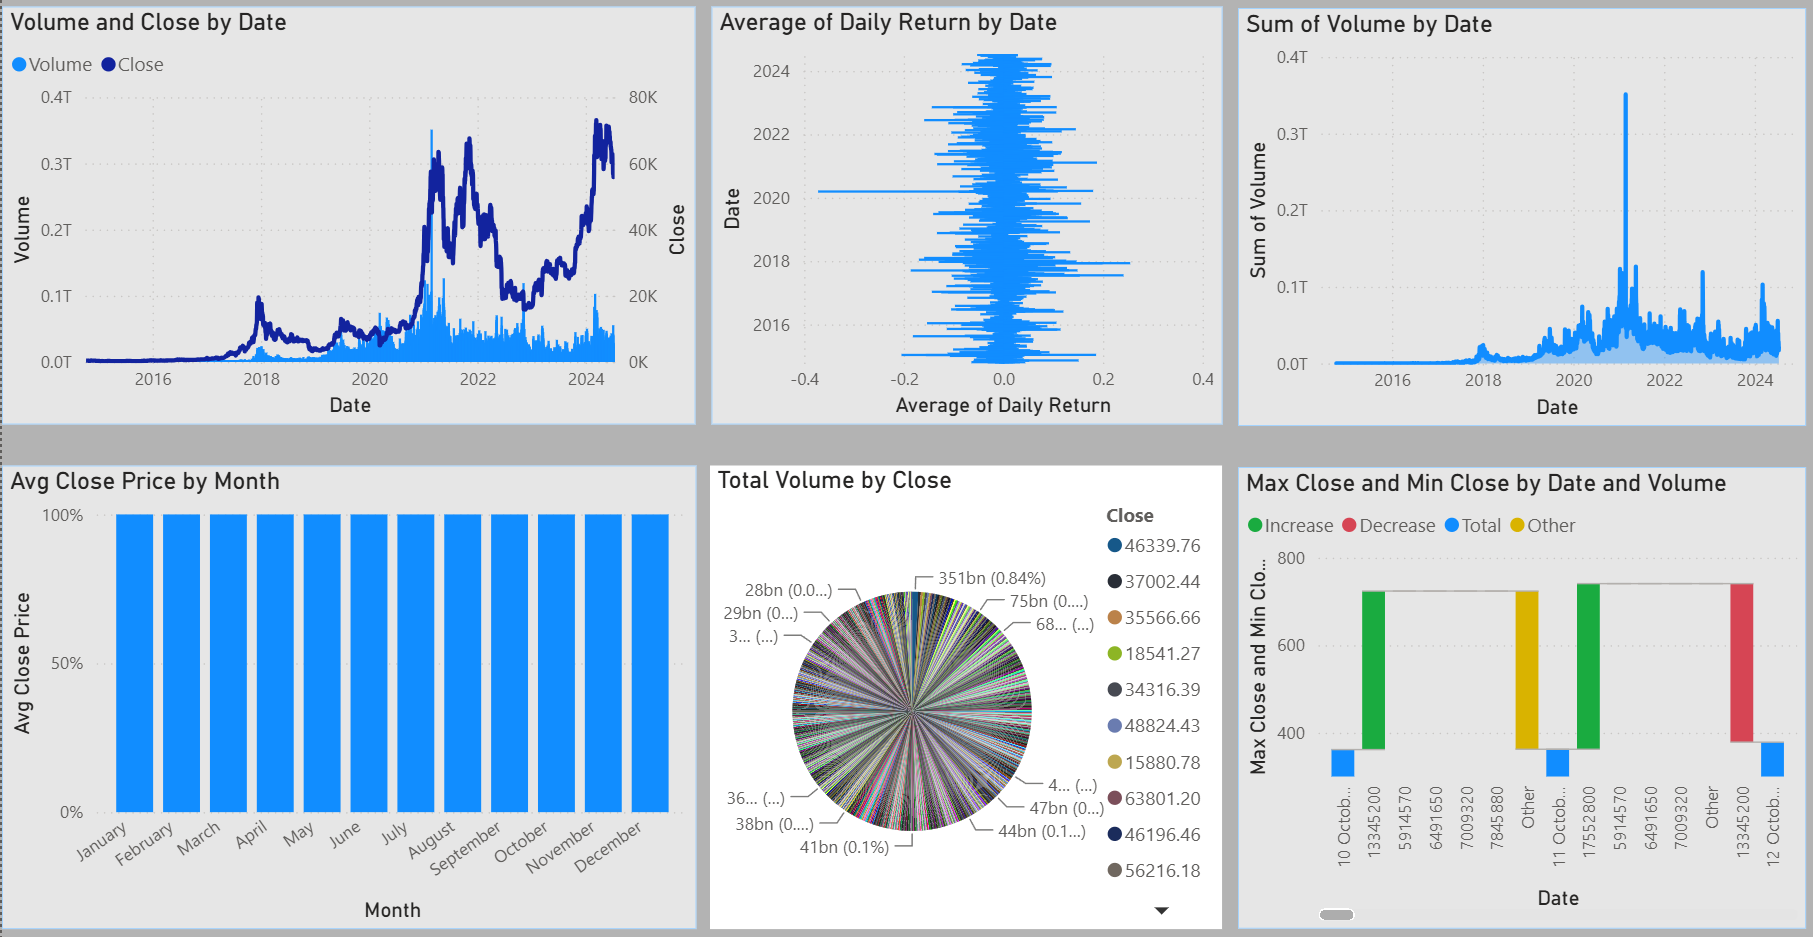

Layout of this report page (visuals, bound fields, positions):
{"tool":"powerbi","page":{"name":"Page 2","canvas":[1280,720],"ordinal":1},"visuals":[{"type":"lineClusteredColumnComboChart","fields":{"Category":["BTC-USD.Date"],"Y2":["Avg(BTC-USD.Close)"],"Y":["Avg(BTC-USD.Volume)"]},"box":[0,0,486.7,293.2],"z":0},{"type":"hundredPercentStackedColumnChart","fields":{"Category":["BTC-USD.Date.Variation.Date Hierarchy.Month"],"Y":["BTC-USD.Avg Close Price"]},"box":[0,303,487,293],"z":1},{"type":"barChart","fields":{"Category":["BTC-USD.Date"],"Y":["Avg(BTC-USD.Daily Return)"]},"box":[497.1,0,359.2,293.2],"z":2},{"type":"pieChart","fields":{"Category":["BTC-USD.Day Type"],"Y":["CountNonNull(BTC-USD.Day Type)"]},"box":[497.1,302.4,359.2,293.2],"z":3},{"type":"stackedAreaChart","fields":{"Y":["Sum(BTC-USD.Volume)"],"Category":["BTC-USD.Date"]},"box":[868.1,0,398.2,293.7],"z":4},{"type":"waterfallChart","fields":{"Category":["BTC-USD.Date"],"Breakdown":["BTC-USD.Volume"],"Y":["BTC-USD.Max Close"]},"box":[868.1,301.9,412.3,285.4],"z":5}]}

Visuals, with their boxes on the page's 1280x720 design canvas (x1, y1, x2, y2). These are canvas units, not pixel positions in the 1813x937 screenshot, which may show the page scaled, cropped or inside an application window:
lineClusteredColumnComboChart - BTC-USD.Date x Avg(BTC-USD.Close): locate(0, 0, 487, 293)
hundredPercentStackedColumnChart - BTC-USD.Date.Variation.Date Hierarchy.Month x BTC-USD.Avg Close Price: locate(0, 303, 487, 596)
barChart - BTC-USD.Date x Avg(BTC-USD.Daily Return): locate(497, 0, 856, 293)
pieChart - BTC-USD.Day Type x CountNonNull(BTC-USD.Day Type): locate(497, 302, 856, 596)
stackedAreaChart - Sum(BTC-USD.Volume) x BTC-USD.Date: locate(868, 0, 1266, 294)
waterfallChart - BTC-USD.Date x BTC-USD.Volume: locate(868, 302, 1280, 587)
